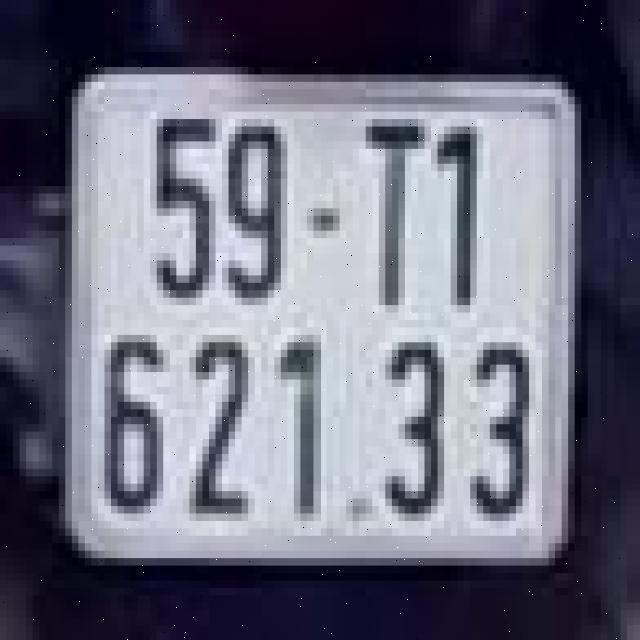1: (264, 328, 330, 528), (428, 100, 487, 316)
2: (180, 324, 258, 532)
3: (372, 328, 457, 528), (460, 323, 532, 540)
5: (140, 104, 219, 305)
6: (101, 316, 173, 525)
9: (215, 97, 288, 305)
T: (353, 108, 431, 324)
